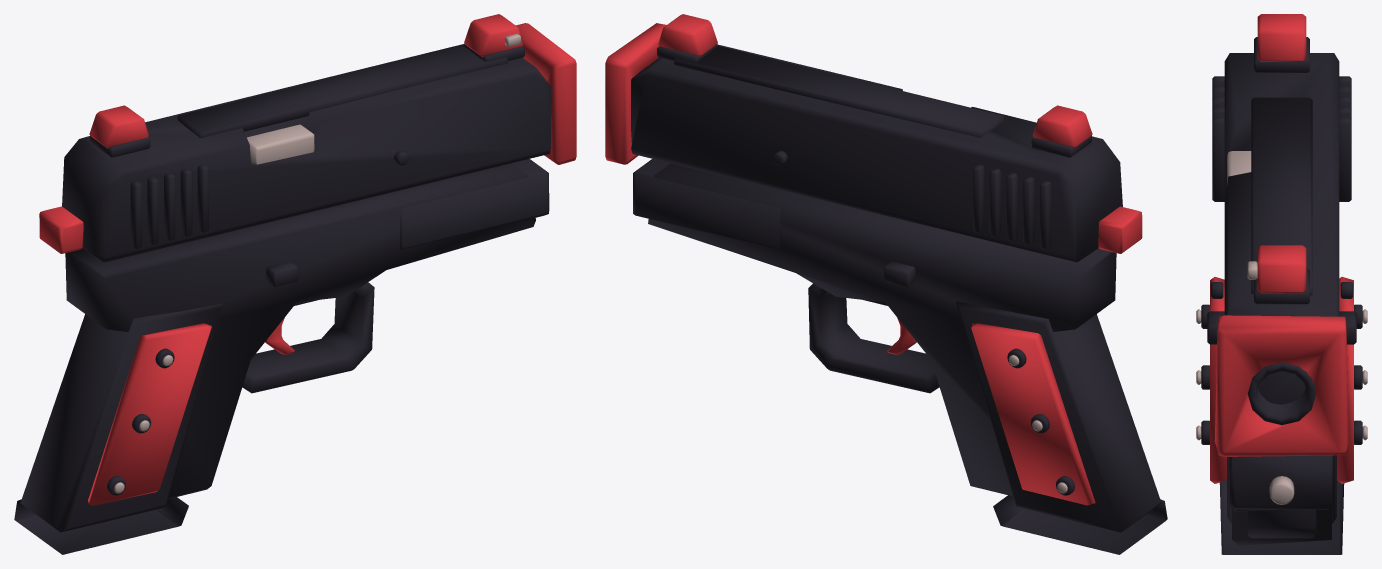
3 renders of one model, left to right at view 1: azimuth 30°, elevation 25°; view 2: azimuth 150°, elevation 25°; view 3: azimuth 270°, elevation 25°, orthographic. The views are drawn at different scales.
Visible parts, largest first — view 1: object 2, body; view 2: object 2, body; view 3: object 2, body.
Boxes of the visible parts, x1,y1,x2,y2 form: object 2: (14, 14, 576, 554); body: (20, 159, 549, 532); object 2: (605, 14, 1167, 554); body: (633, 159, 1161, 532); object 2: (1196, 14, 1367, 554); body: (1201, 304, 1362, 545).
Size of the model in its own units: 0.3097 by 0.231 by 0.07.
